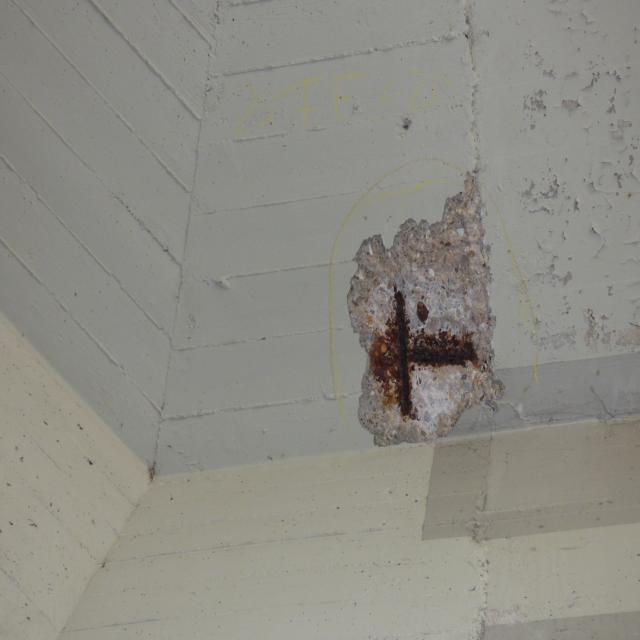corrosion: (362, 286, 485, 428)
